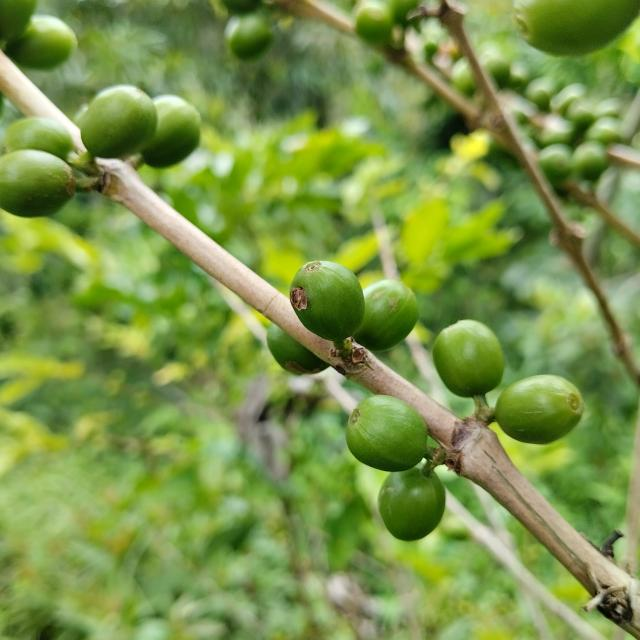green: (346, 395, 428, 472), (495, 375, 585, 444), (290, 261, 365, 342), (79, 84, 157, 158), (433, 320, 505, 398), (378, 466, 446, 542), (0, 149, 75, 217), (353, 279, 419, 351), (141, 94, 201, 167), (267, 324, 329, 375), (1, 117, 73, 160)
